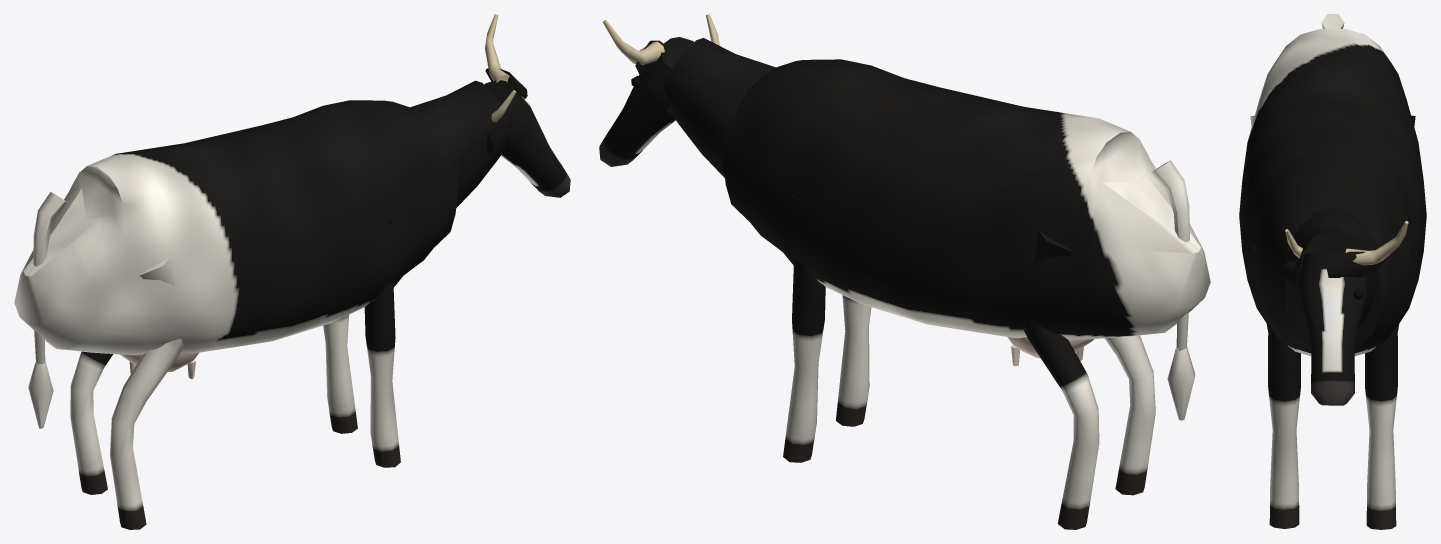
Rendered from tpl_life_herd_1850_cattle_fh_stand_h.glb.
The picture shows the model from 3 angles, left to right: view 1: azimuth 30°, elevation 25°; view 2: azimuth 150°, elevation 25°; view 3: azimuth 270°, elevation 25°; orthographic projection. The views are drawn at different scales.
Parts seen in each view (by area): view 1: tpl_life_herd_1850_cattle_fh_stand_h; view 2: tpl_life_herd_1850_cattle_fh_stand_h; view 3: tpl_life_herd_1850_cattle_fh_stand_h.
Boxes of the visible parts, x1,y1,x2,y2 form: tpl_life_herd_1850_cattle_fh_stand_h: (14,14,570,529); tpl_life_herd_1850_cattle_fh_stand_h: (599,14,1210,529); tpl_life_herd_1850_cattle_fh_stand_h: (1239,14,1426,529).
Size of the model in its own units: 2.34 by 1.51 by 0.6588.
3 materials, 1 textured.
